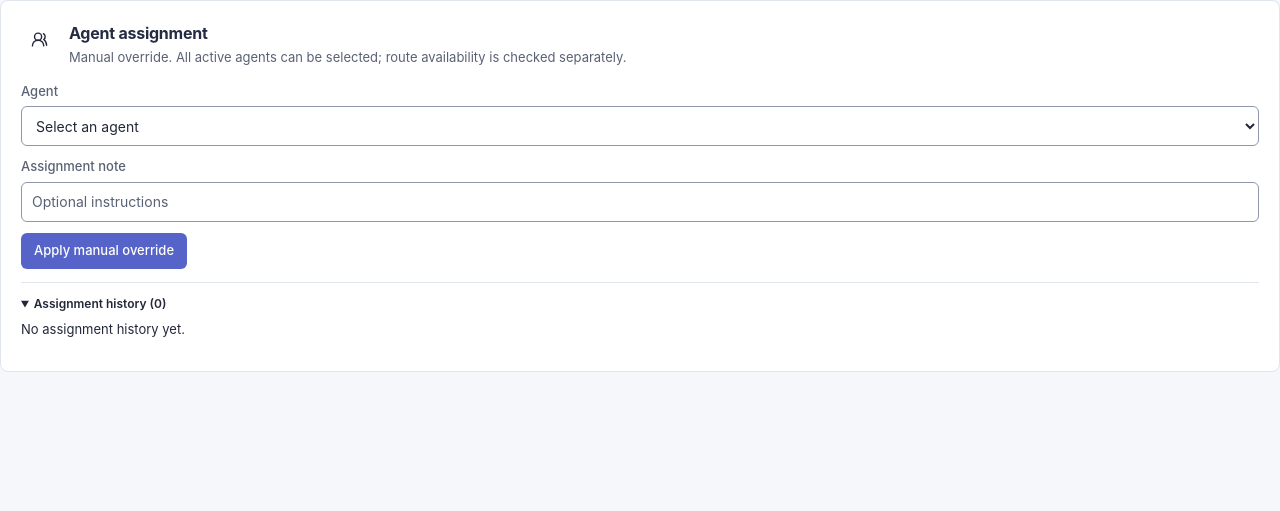
it: AssignmentPanel automatic route refresh › shows queued then published when the assignment route refresh completes
Select "Alex Agent · No region" in the dropdown labelled "Agent" at [640, 126], box [21,106,1259,146]
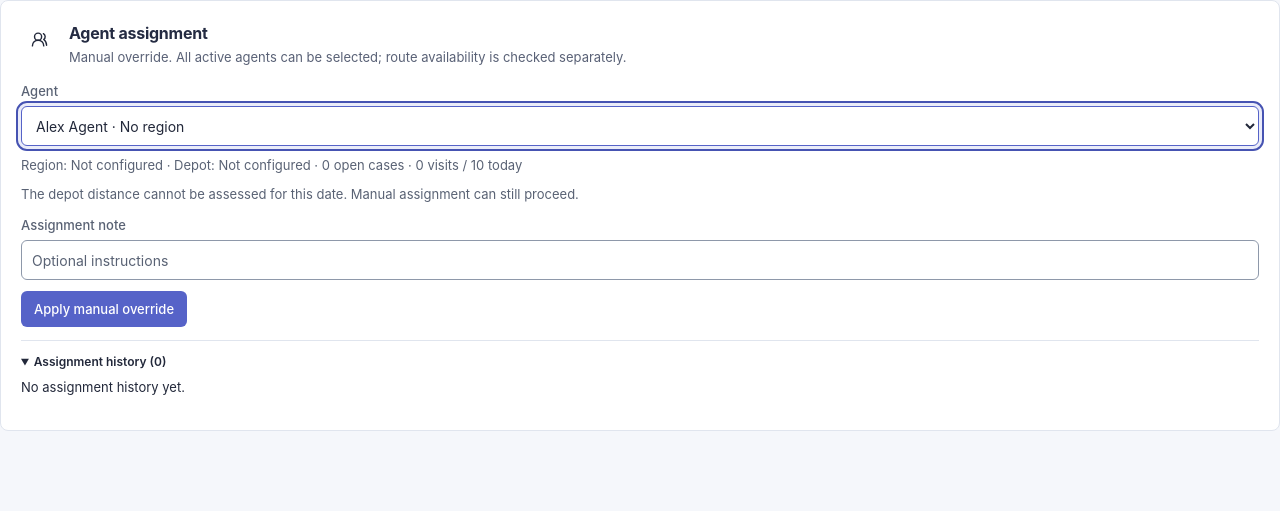
Click the button "Apply manual override" at [104, 309], box [21,291,187,327]
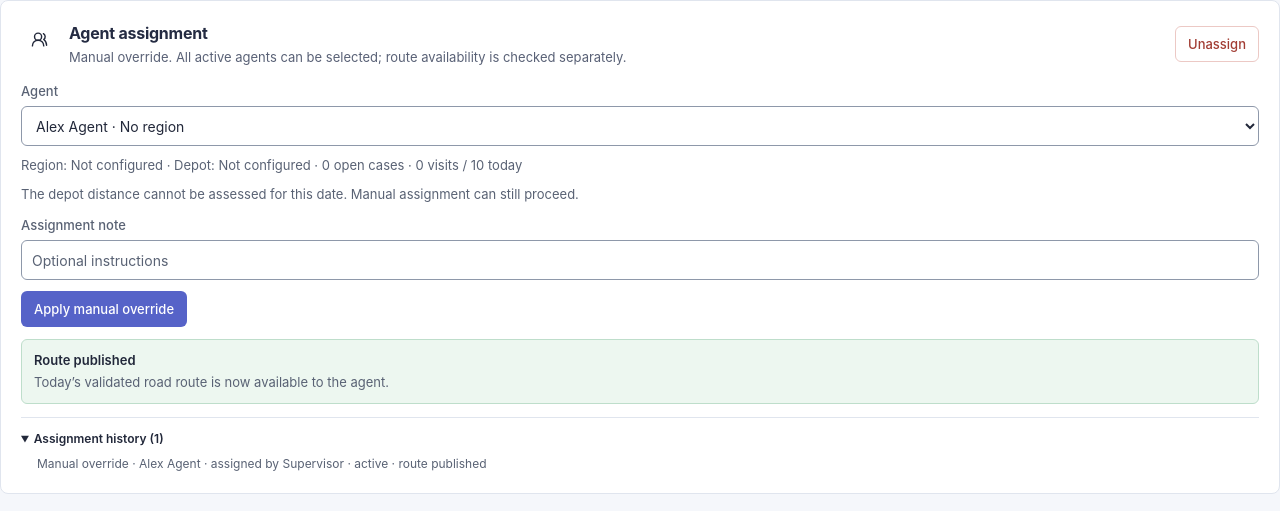
Now the text "Route published" is shown, box [34,352,136,368]
Now the text "Today’s validated road route is now available to the agent." is shown, box [34,373,389,392]
